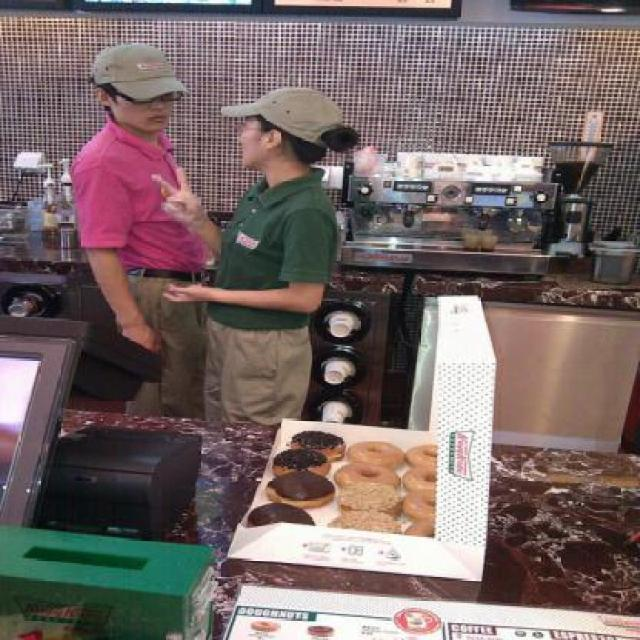Person: (152, 84, 366, 422), (70, 43, 208, 420)
